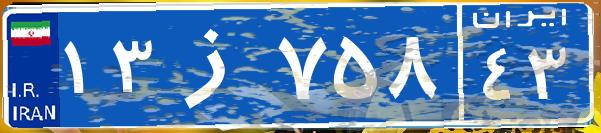1: (57, 26, 110, 107)
3: (110, 28, 158, 105), (525, 38, 570, 115)
4: (475, 38, 525, 113)
5: (330, 28, 385, 110)
7: (273, 28, 330, 110)
8: (385, 28, 445, 110)
ز: (158, 15, 273, 115)
